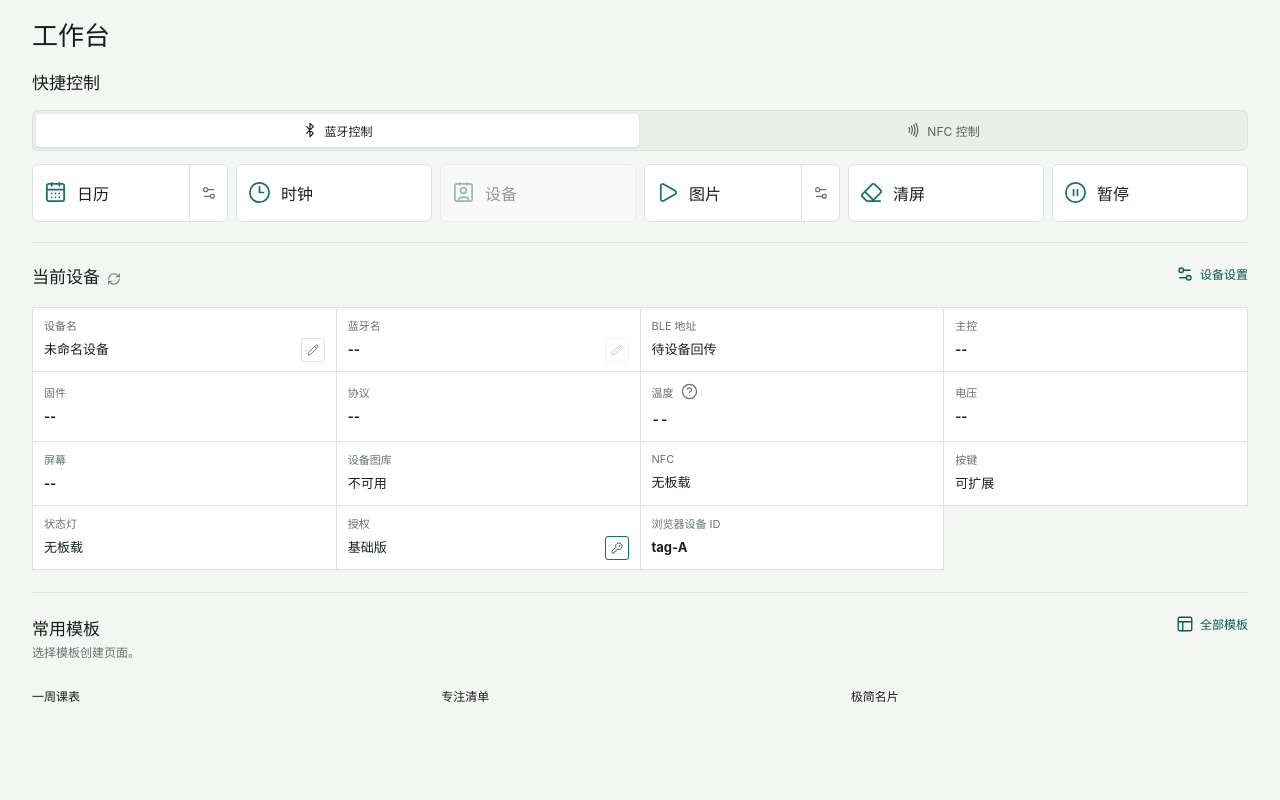
Test: keeps failed readback feedback until a retry or device change
The image size is (1280, 800).
Click the button named "重新读取设备配置". click: [114, 277]
box: left=104, top=265, right=124, bottom=289
Wait 5000 ms
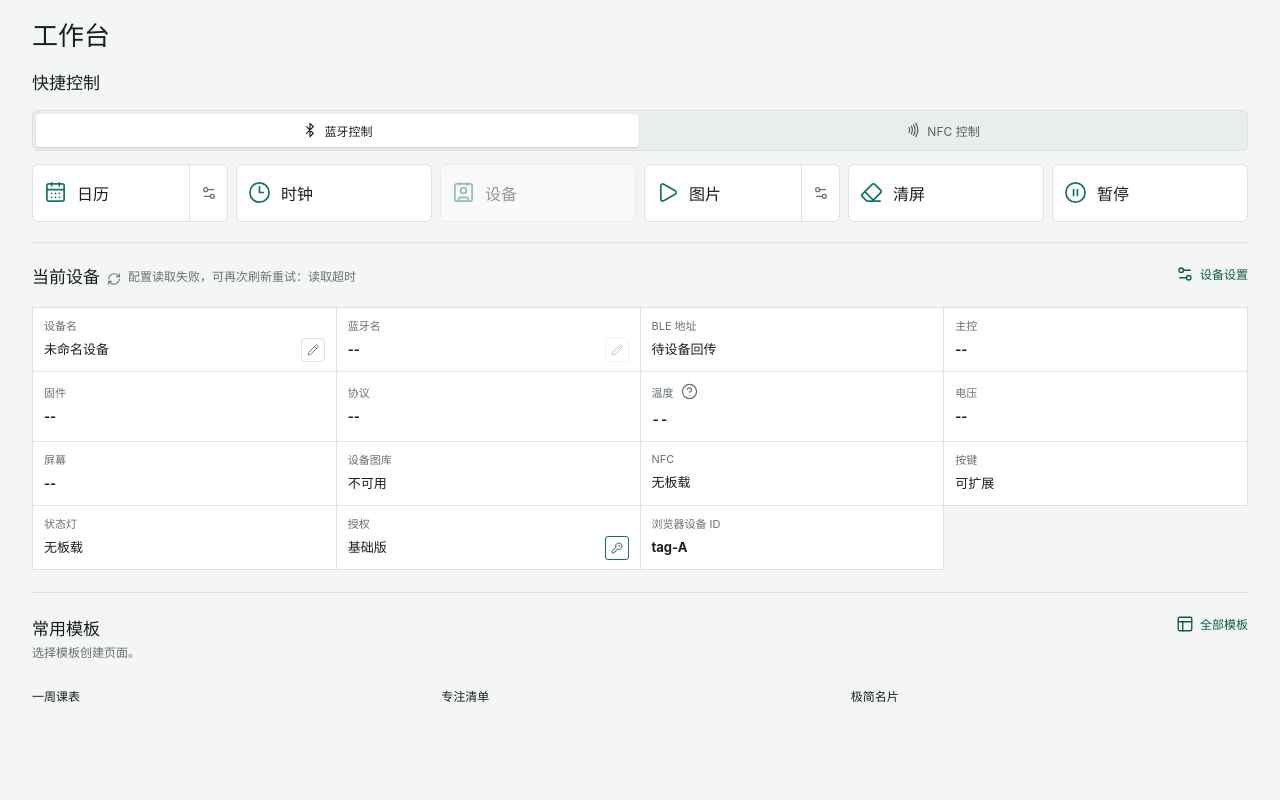
Check: the message "配置读取失败，可再次刷新重试：读取超时" is shown, box left=128, top=269, right=356, bottom=284
